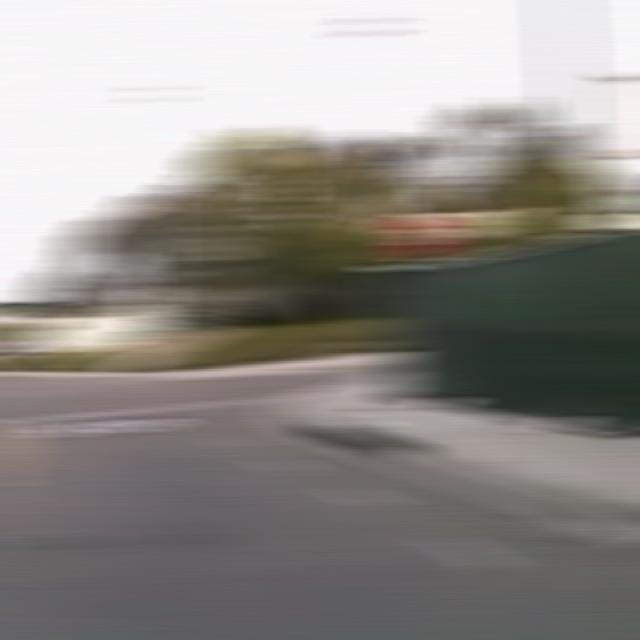stop_sign: (392, 212, 453, 261)
